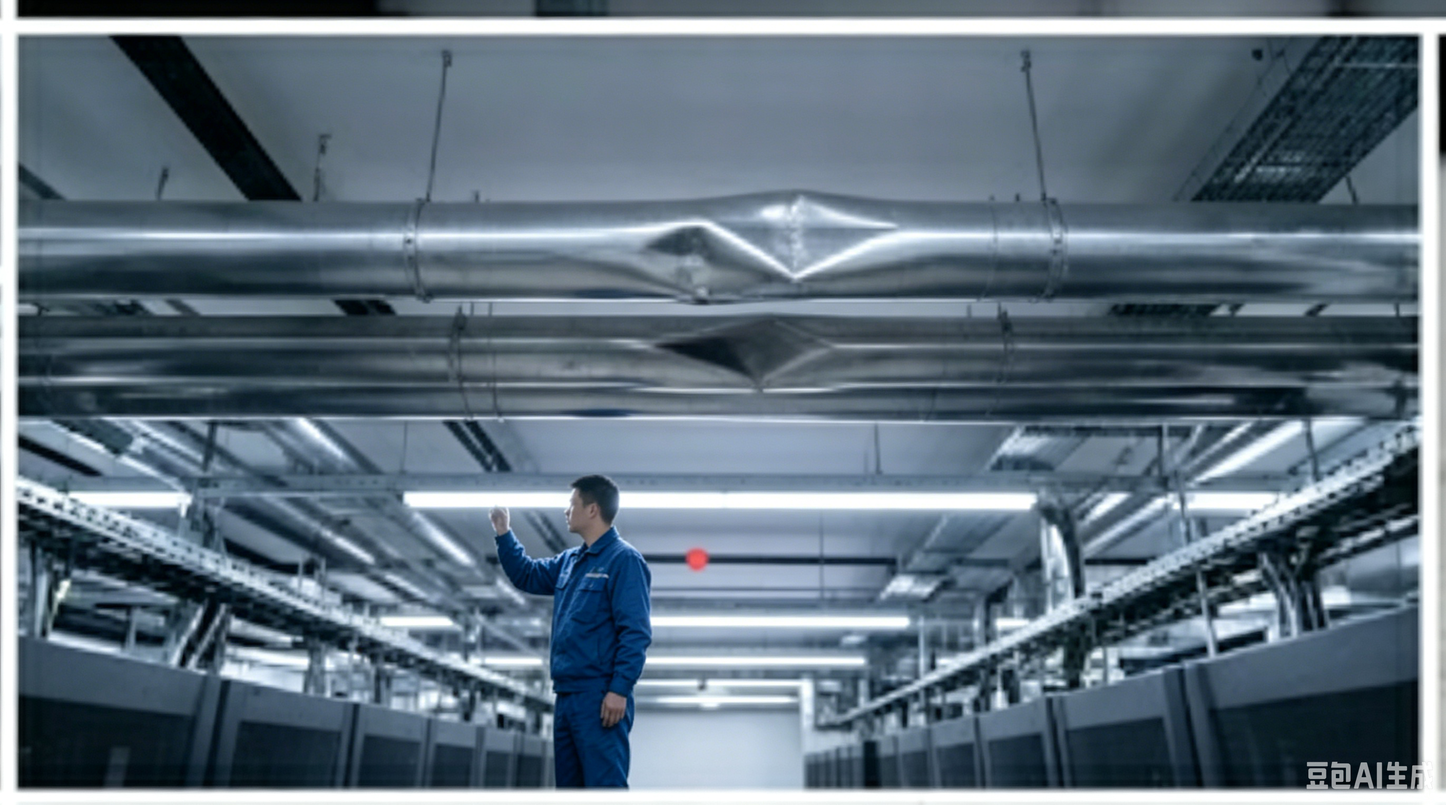Leakage: (643, 311, 875, 393), (727, 180, 908, 281), (646, 208, 741, 291)
